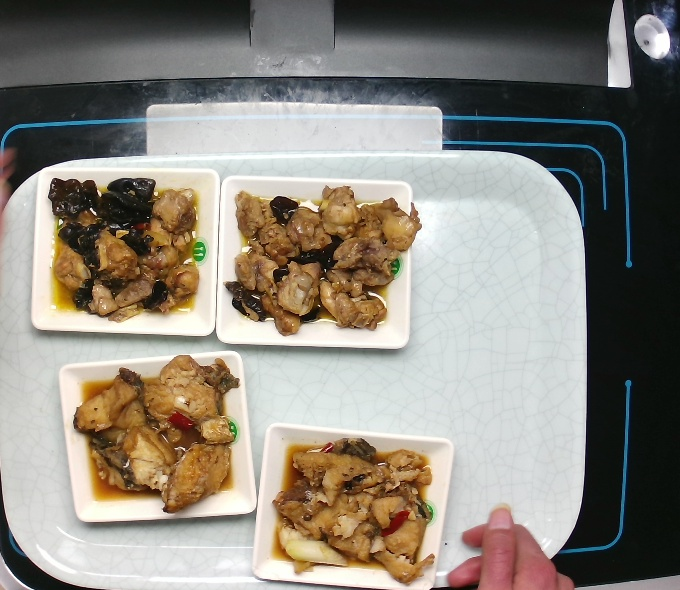wcq-MuErRouKuai: (226, 180, 426, 341), (45, 174, 205, 322)
wcq-YuKuai: (272, 429, 441, 585), (75, 355, 244, 511)
